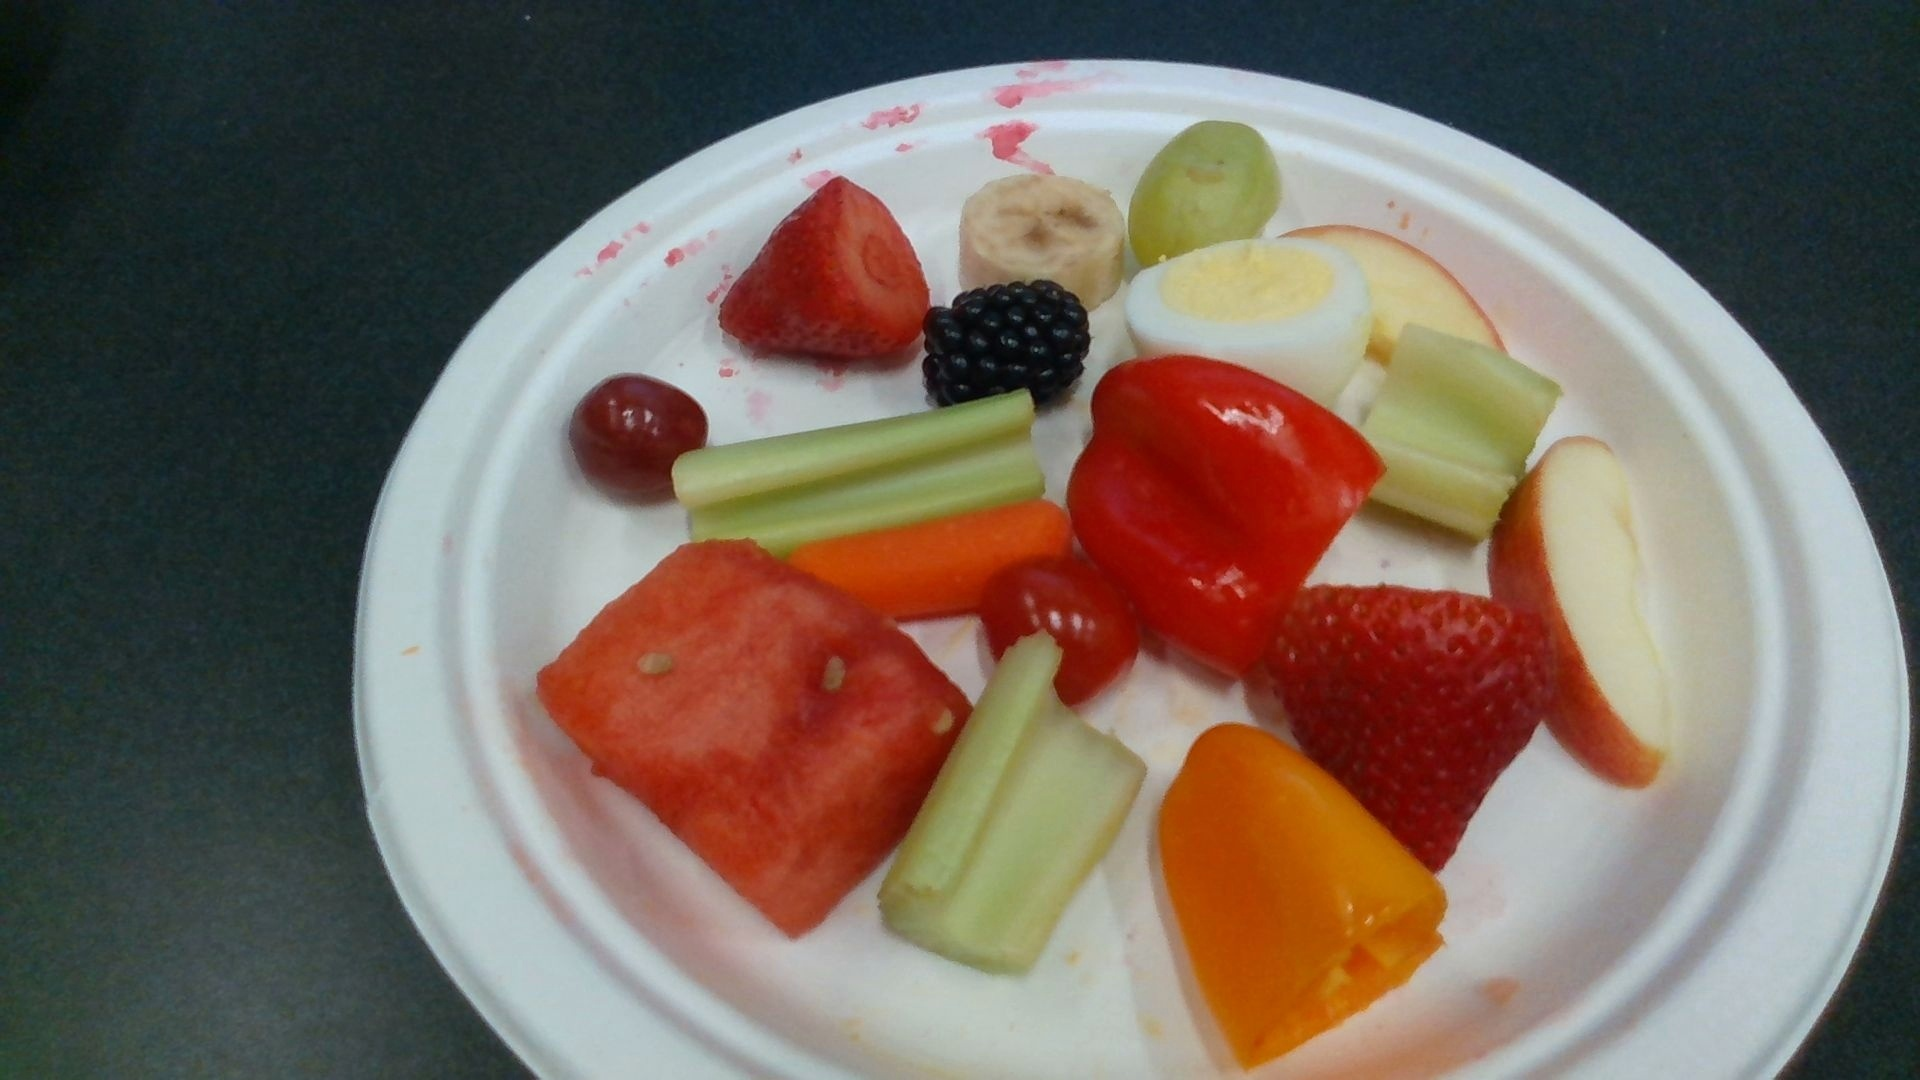apple: (1491, 438, 1672, 785), (1284, 223, 1513, 375)
banana: (963, 175, 1124, 303)
bell_pepper: (1156, 723, 1445, 1063), (1069, 356, 1379, 673)
blackberry: (924, 284, 1087, 407)
carrot: (789, 498, 1069, 620)
celery: (876, 633, 1147, 976), (669, 390, 1033, 549), (1364, 326, 1557, 538)
cherry_tomato: (985, 558, 1139, 705)
egg: (1124, 237, 1367, 400)
grape_green: (1134, 123, 1279, 256)
grape_purple: (568, 378, 709, 498)
melon: (541, 538, 969, 942)
strawberry: (1270, 585, 1559, 873), (723, 178, 928, 361)
